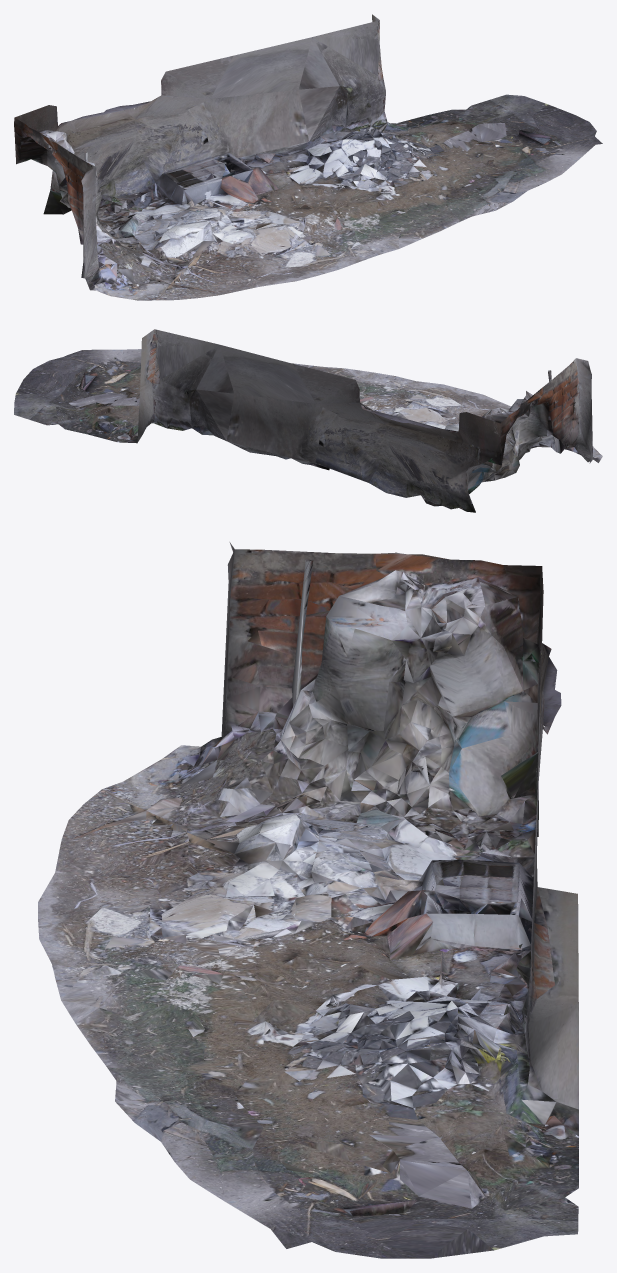
The model's file is Garbage_pile_in_the_corner.fbx.
3 renders of one model, top to bottom at view 1: azimuth 30°, elevation 25°; view 2: azimuth 150°, elevation 25°; view 3: azimuth 270°, elevation 25°, orthographic. The views are drawn at different scales.
Visible parts, largest first — view 1: Garbage_pile_in_the_corner; view 2: Garbage_pile_in_the_corner; view 3: Garbage_pile_in_the_corner.
Part boxes in pixels (bbox=[...]): Garbage_pile_in_the_corner: bbox=[14, 14, 602, 300]; Garbage_pile_in_the_corner: bbox=[14, 329, 602, 512]; Garbage_pile_in_the_corner: bbox=[38, 542, 578, 1258].
Size of the model in its own units: 212 by 43.78 by 95.39.
1 material, 1 textured.
